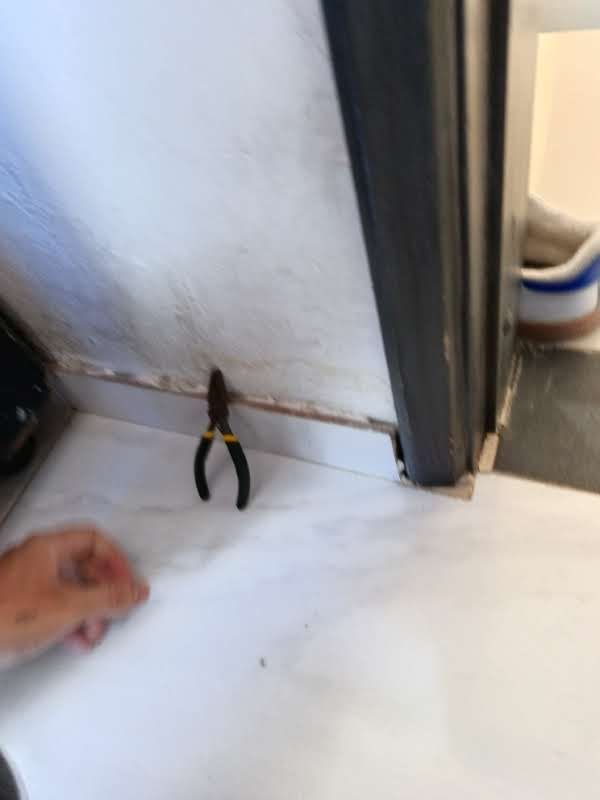Pinzas: (194, 366, 249, 509)
